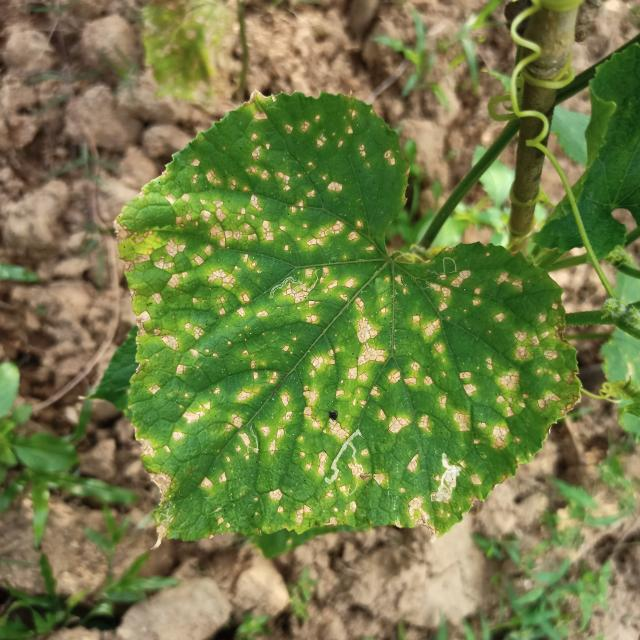disease_cucumber: (138, 111, 564, 543)
